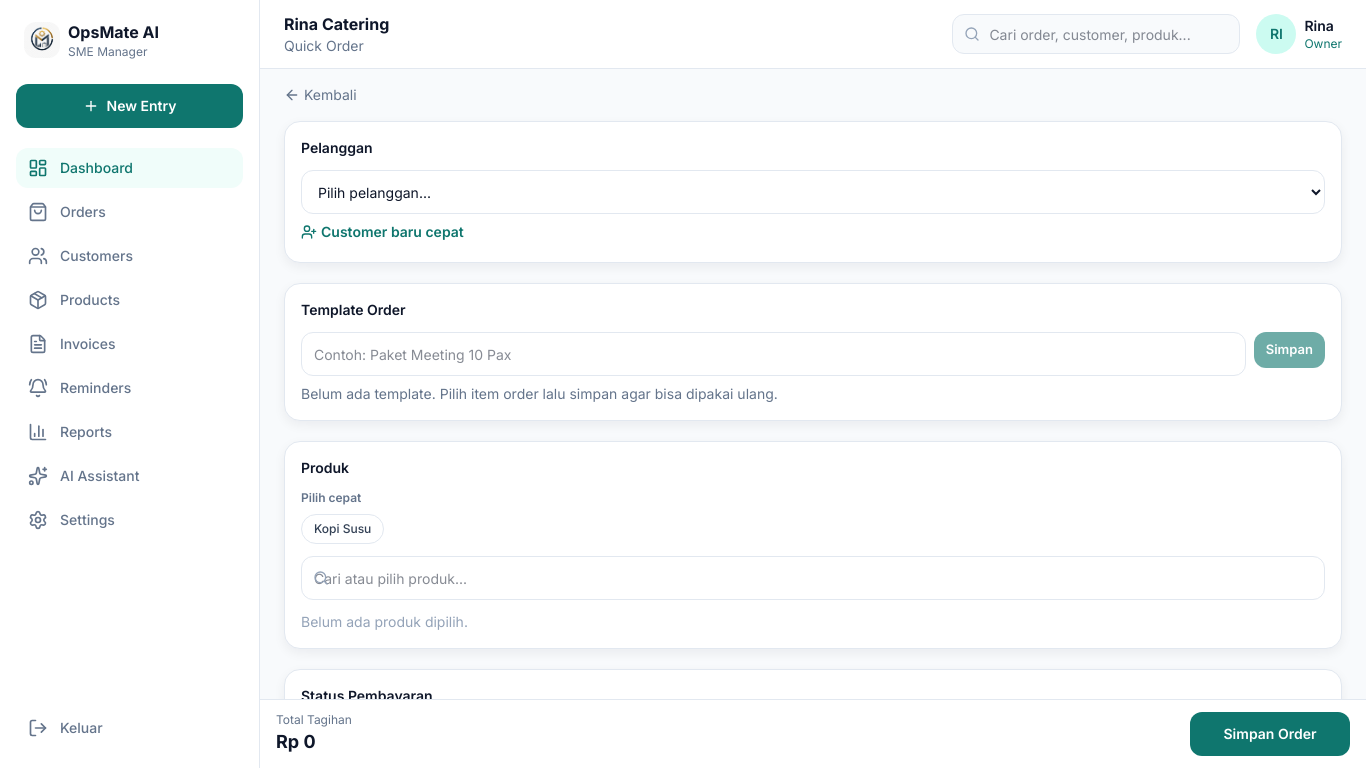
Test: OrderFormPage › blocks submit until a customer and item are chosen
Click the button "Simpan Order" at (1270, 734), box [1190,712,1350,756]
(page scrolled)
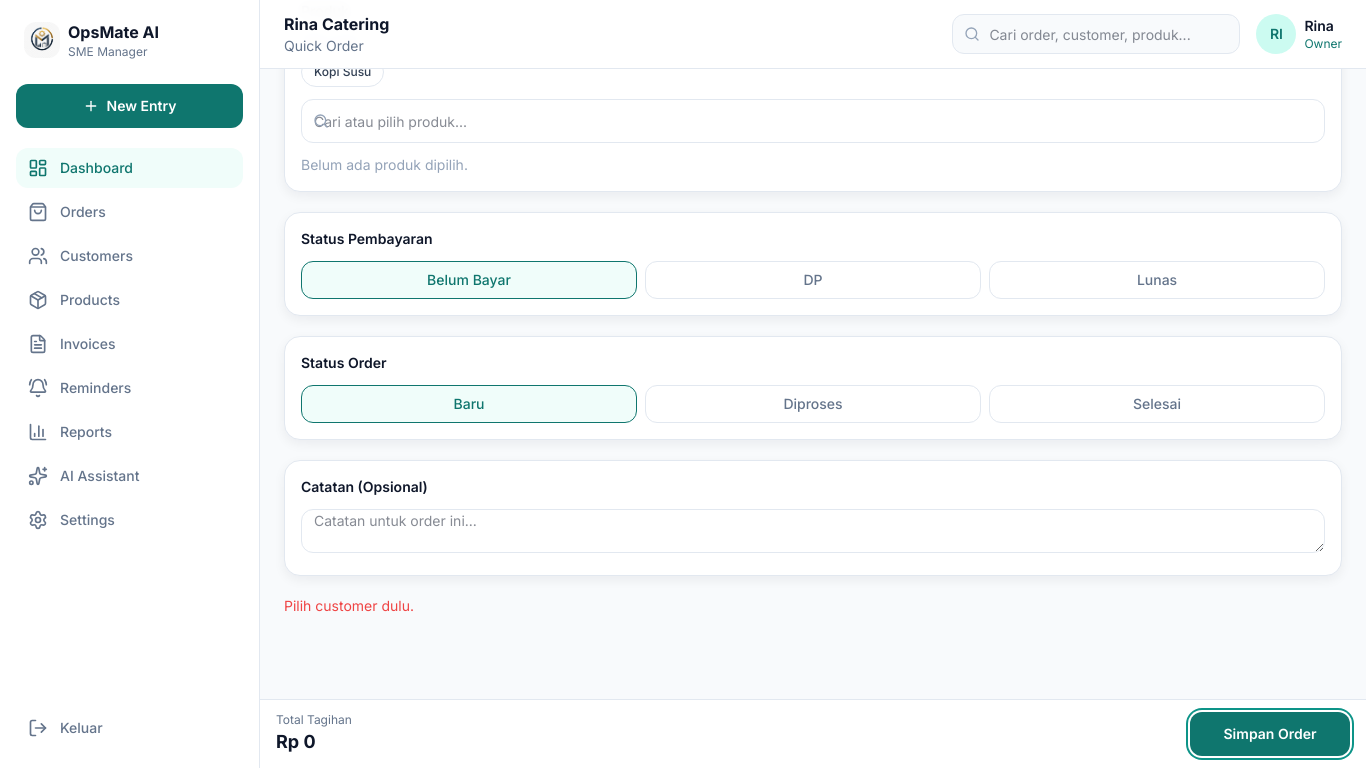
Expected: the text "Pilih customer dulu." is shown, [284,597,414,614]
